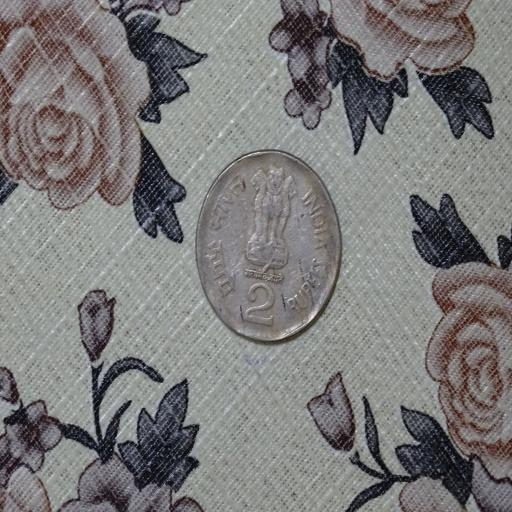rupee2: (194, 152, 339, 345)
